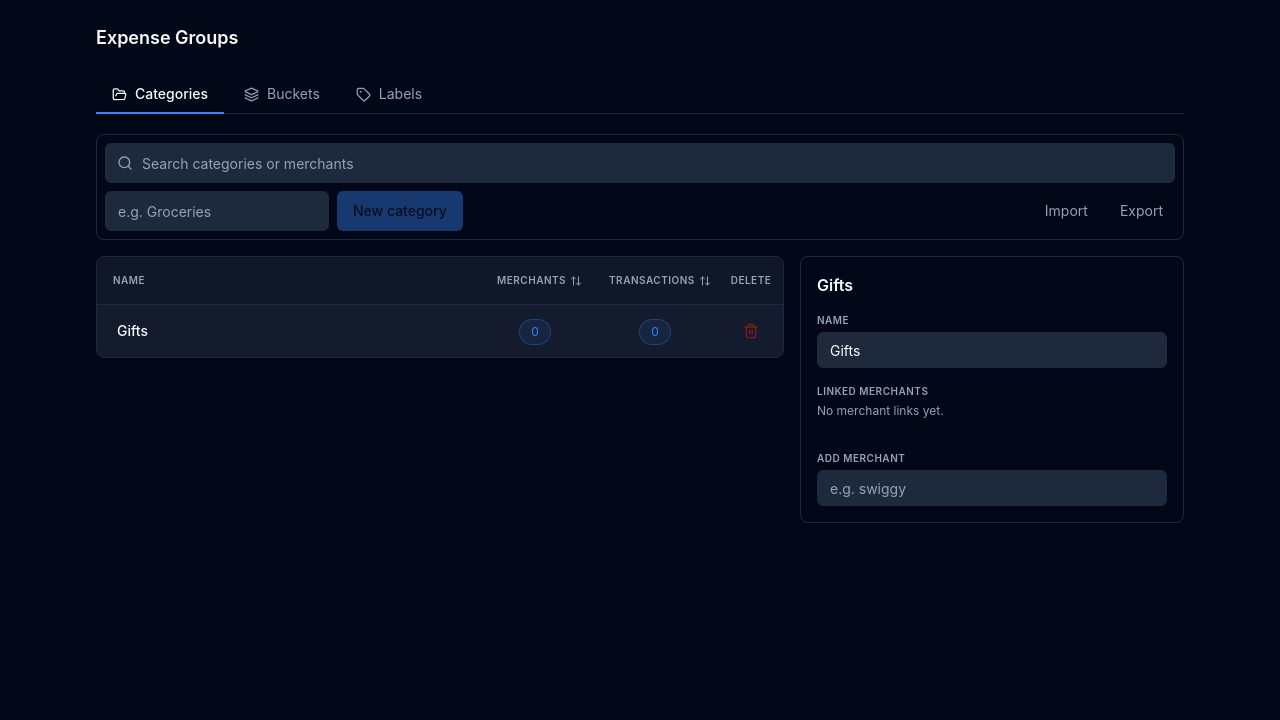
Test: ExpenseGroupsPage › does not show transaction cleanup when deleting an unused item
Click the button named "Delete Gifts": (751, 331) [735, 315, 767, 347]
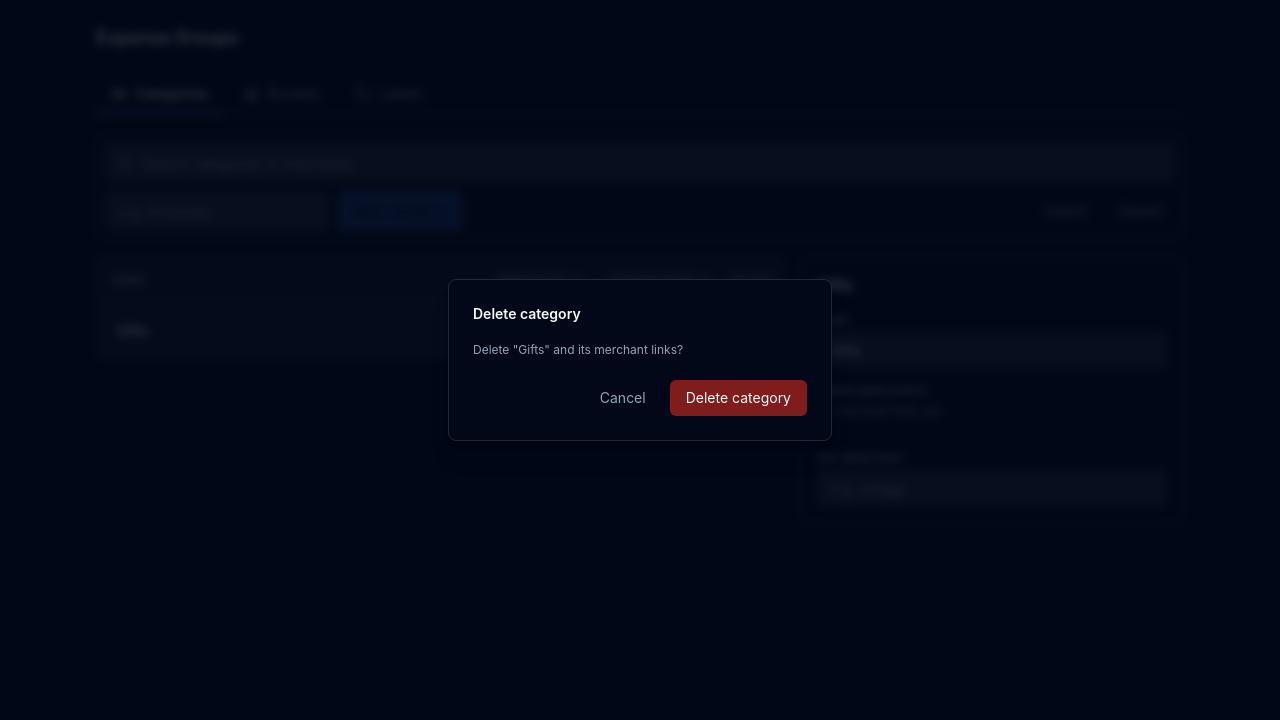
Now the dialog "Delete category" is shown, box [448, 279, 832, 441]
